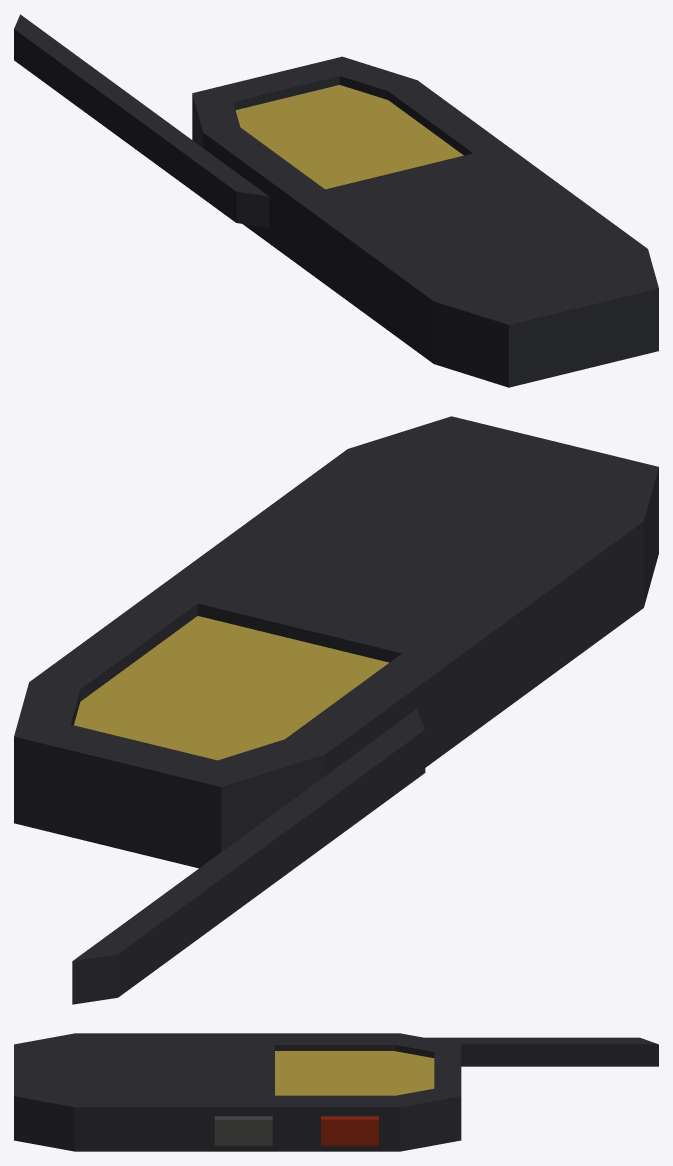
File: LPWarPack_RadioA.fbx
The picture shows the model from 3 angles, top to bottom: view 1: azimuth 30°, elevation 25°; view 2: azimuth 150°, elevation 25°; view 3: azimuth 270°, elevation 25°; orthographic projection. The views are drawn at different scales.
Parts seen in each view (by area): view 1: RadioA; view 2: RadioA; view 3: RadioA.
Part boxes in pixels (x1=…): RadioA: x1=14, y1=14, x2=658, y2=387; RadioA: x1=14, y1=416, x2=658, y2=1004; RadioA: x1=14, y1=1033, x2=658, y2=1151.
Size of the model in its own units: 16.17 by 3.98 by 52.5.
